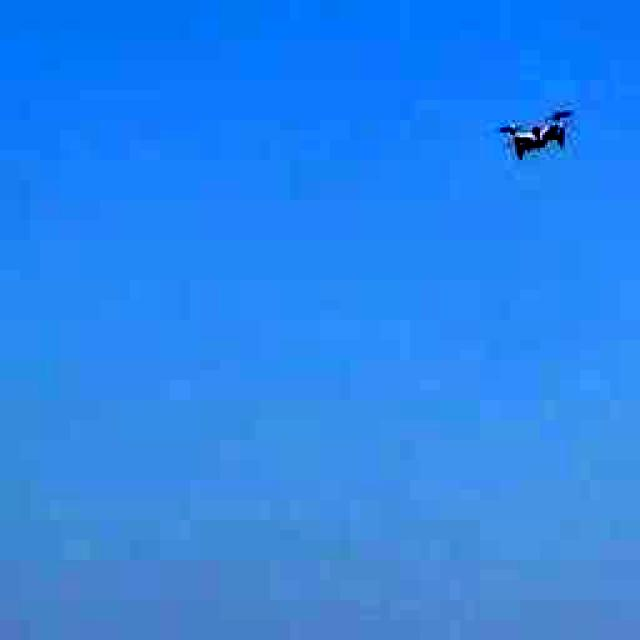bird: (472, 69, 595, 194)
